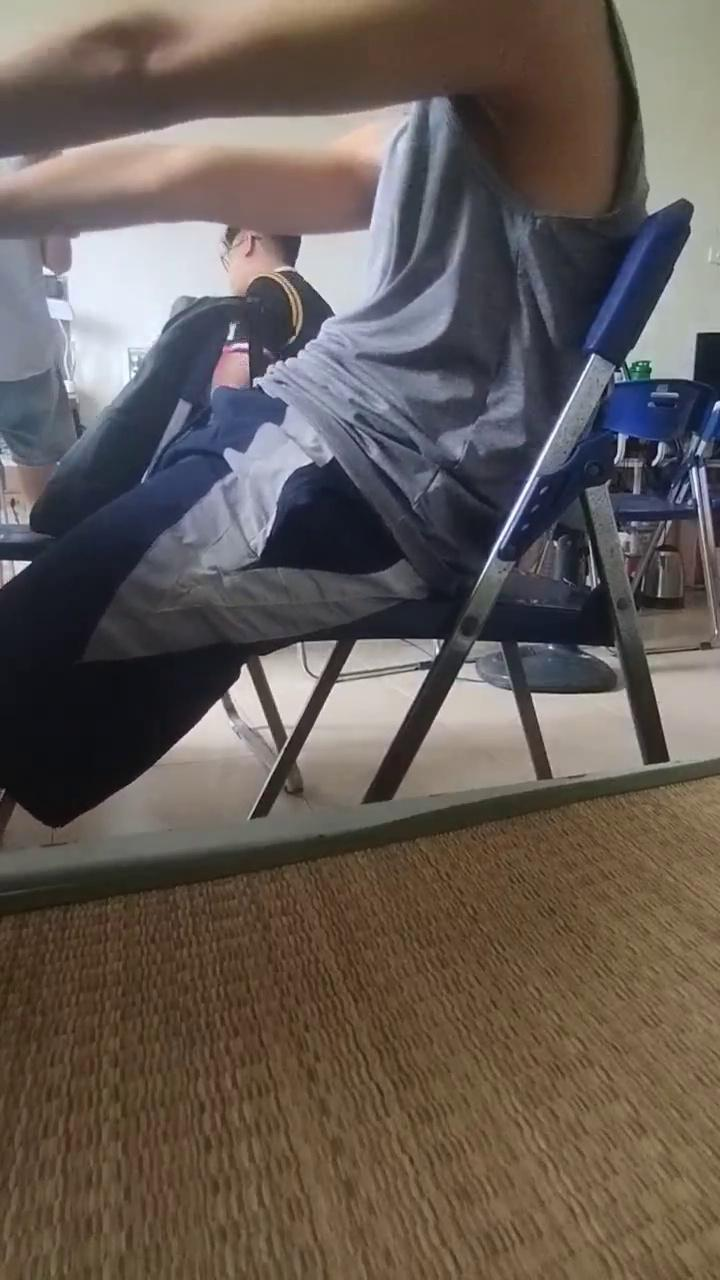BadPosture: (0, 0, 646, 825)
